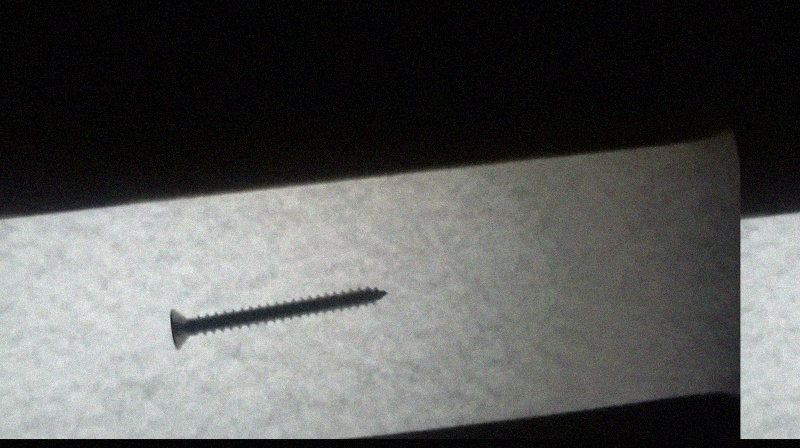S002: (167, 284, 390, 352)
